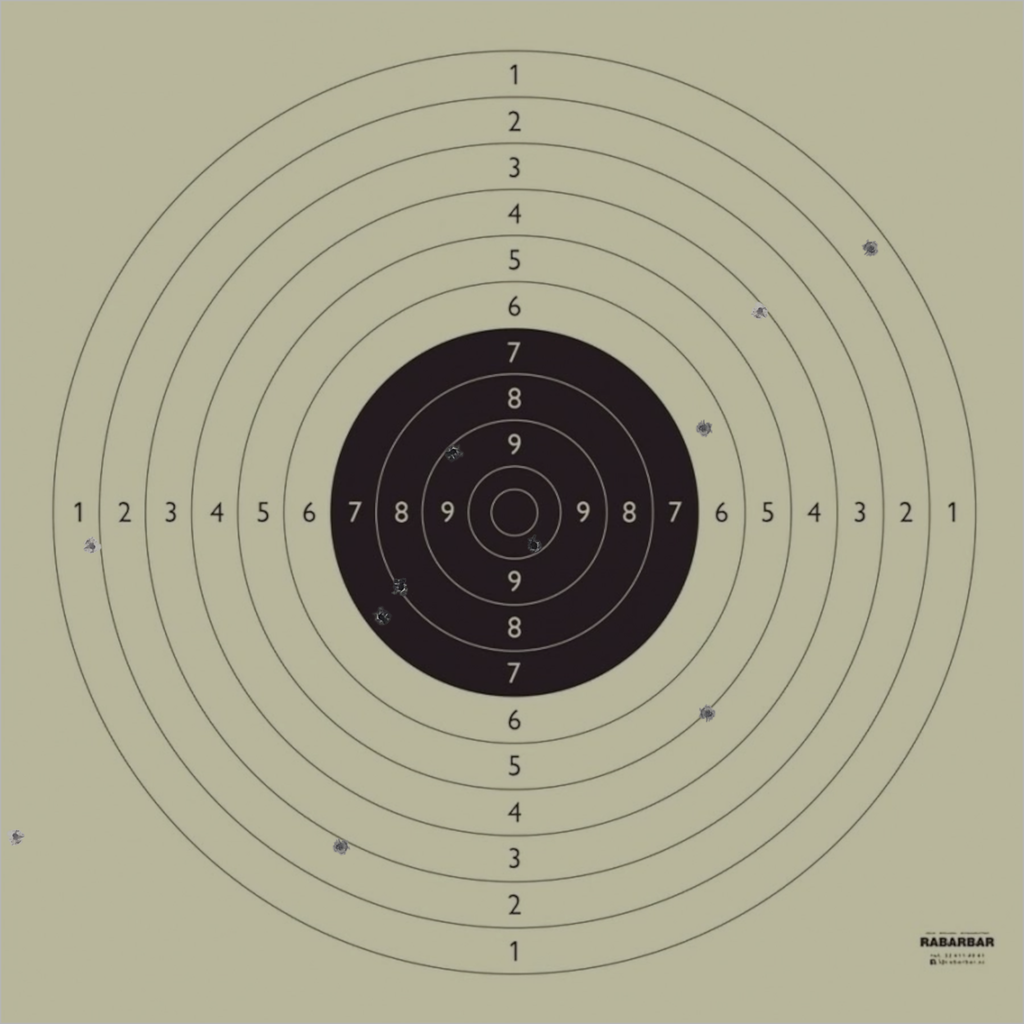0 punktow: (7, 827, 25, 846)
1 punkt: (862, 240, 880, 258)
10 punktow: (525, 536, 543, 554)
2 punkty: (83, 537, 101, 555)
3 punkty: (331, 837, 350, 856)
4 punkty: (751, 302, 769, 320)
5 punktow: (699, 704, 717, 723)
6 punktow: (694, 419, 713, 438)
7 punktow: (372, 608, 391, 626)
8 punktow: (392, 577, 410, 596)
9 punktow: (444, 443, 463, 461)
